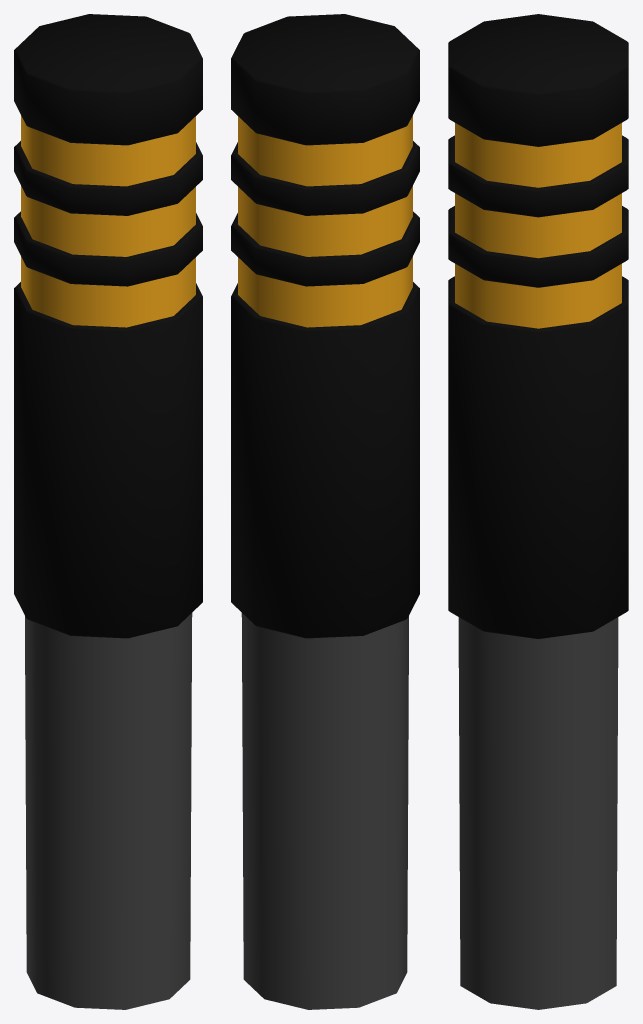
Rendered from Bollard_prop.FBX.
The picture shows the model from 3 angles, left to right: view 1: azimuth 30°, elevation 25°; view 2: azimuth 150°, elevation 25°; view 3: azimuth 270°, elevation 25°; orthographic projection.
Visible parts, largest first — view 1: Bollard_prop; view 2: Bollard_prop; view 3: Bollard_prop.
Boxes of the visible parts, x1,y1,x2,y2 form: Bollard_prop: (14, 14, 202, 1009); Bollard_prop: (231, 14, 419, 1009); Bollard_prop: (448, 14, 628, 1009).
Size of the model in its own units: 15.17 by 81.35 by 14.42.
